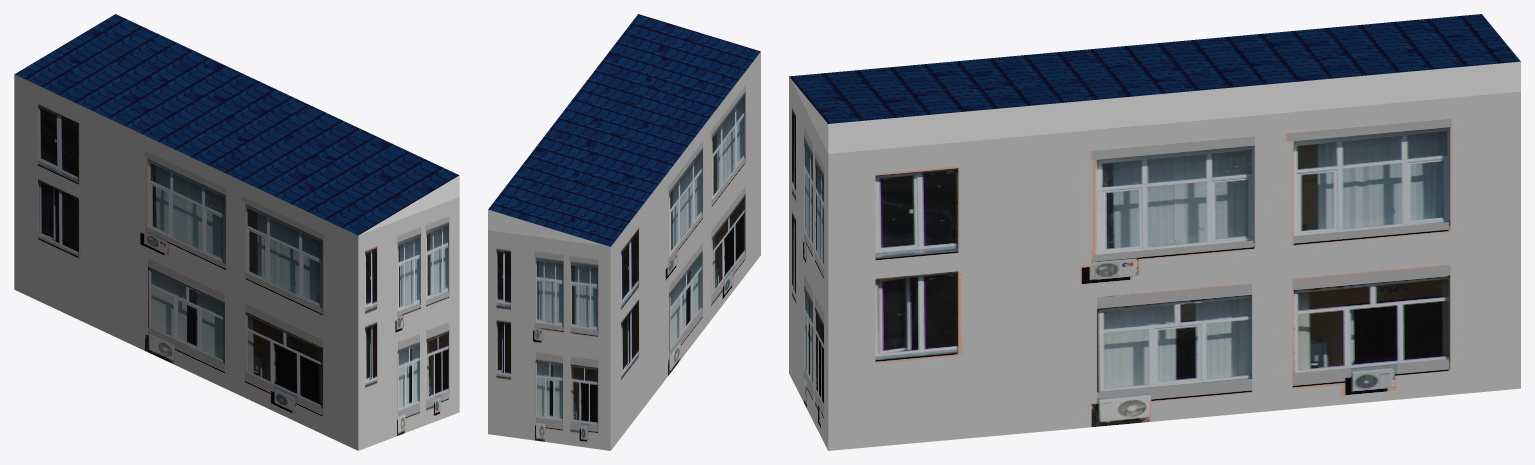
3 renders of one model, left to right at view 1: azimuth 30°, elevation 25°; view 2: azimuth 150°, elevation 25°; view 3: azimuth 270°, elevation 25°, orthographic. The views are drawn at different scales.
Parts seen in each view (by area): view 1: CityEngineMaterial_9_m, CityEngineMaterial_6_m, CityEngineMaterial_3_m; view 2: CityEngineMaterial_9_m, CityEngineMaterial_6_m, CityEngineMaterial_3_m; view 3: CityEngineMaterial_9_m, CityEngineMaterial_6_m, CityEngineMaterial_3_m.
Part boxes in pixels (left/top/right/bottom): CityEngineMaterial_9_m: left=14, top=74, right=459, bottom=450; CityEngineMaterial_6_m: left=14, top=14, right=459, bottom=235; CityEngineMaterial_3_m: left=359, top=175, right=459, bottom=235; CityEngineMaterial_9_m: left=488, top=52, right=760, bottom=450; CityEngineMaterial_6_m: left=488, top=14, right=760, bottom=246; CityEngineMaterial_3_m: left=488, top=209, right=609, bottom=246; CityEngineMaterial_9_m: left=789, top=77, right=1520, bottom=450; CityEngineMaterial_6_m: left=789, top=14, right=1520, bottom=123; CityEngineMaterial_3_m: left=789, top=61, right=1520, bottom=153.
Size of the model in its own units: 9.65 by 10.51 by 21.32.
